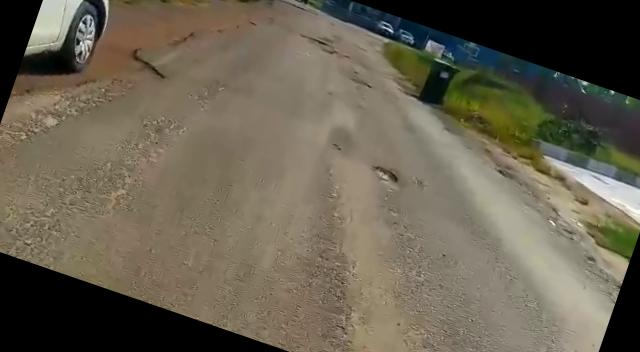pothole: (367, 162, 406, 189)
